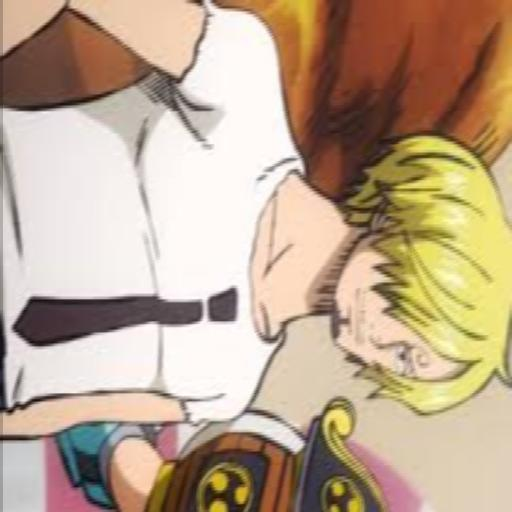sanji: (0, 11, 510, 437)
